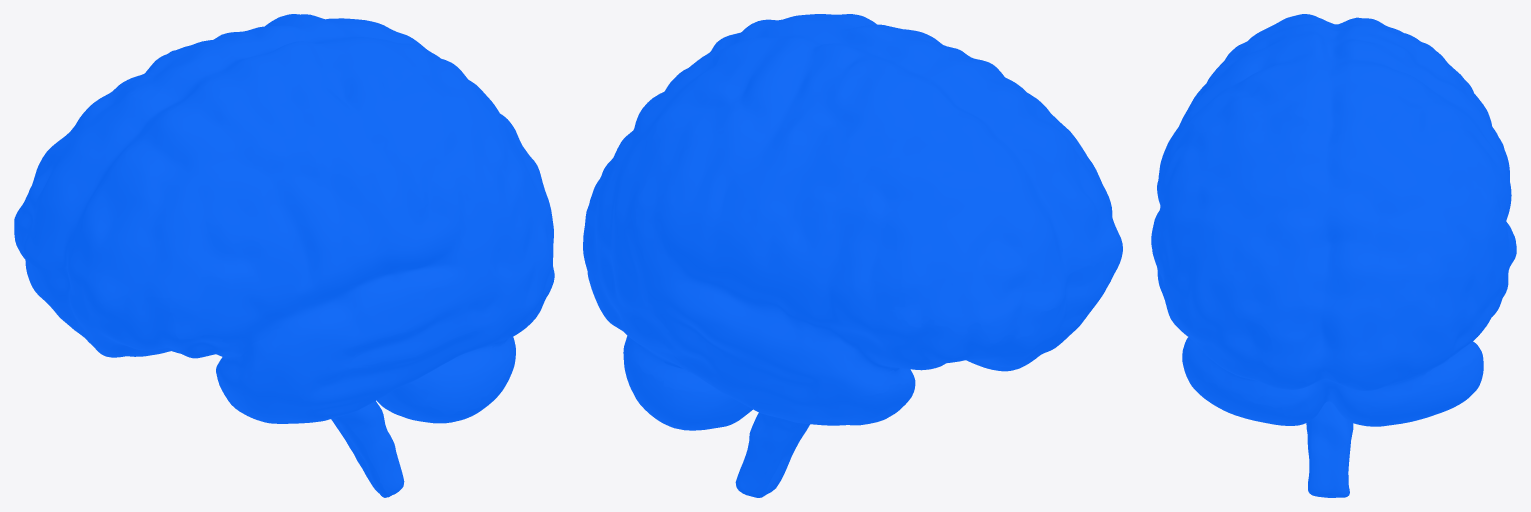
Rendered from holo.glb.
3 views of the same model, side by side, from view 1: azimuth 30°, elevation 25°; view 2: azimuth 150°, elevation 25°; view 3: azimuth 270°, elevation 25° (orthographic). The views are drawn at different scales.
Parts seen in each view (by area): view 1: textured_mesh.obj; view 2: textured_mesh.obj; view 3: textured_mesh.obj.
Part boxes in pixels (<box>): textured_mesh.obj: <box>14,14,554,497</box>; textured_mesh.obj: <box>583,14,1122,497</box>; textured_mesh.obj: <box>1151,14,1516,497</box>.
Size of the model in its own units: 1.99 by 1.97 by 1.55.
